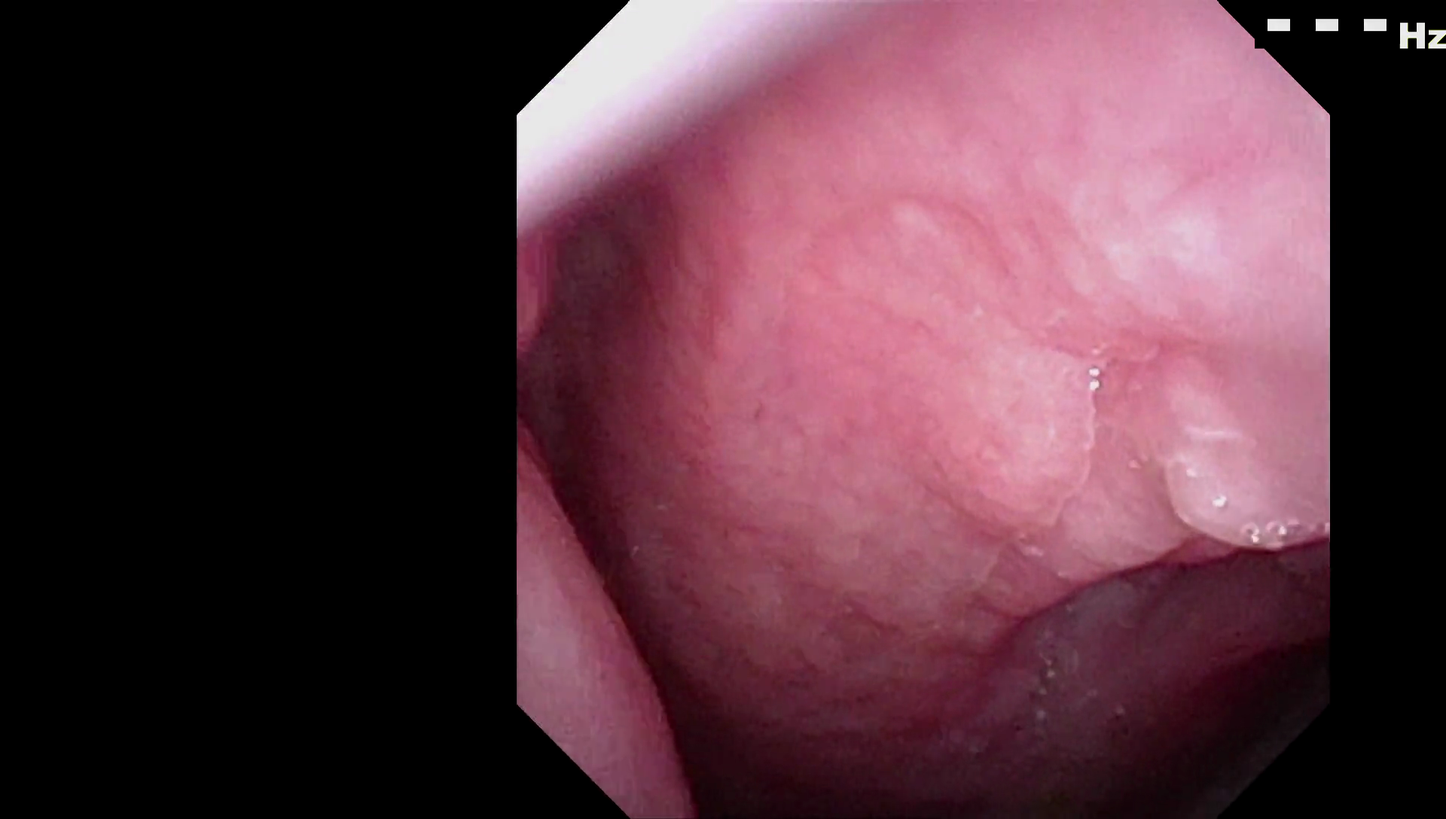close_wall: (846, 126, 1326, 503)
next: (1062, 599, 1311, 809), (599, 583, 819, 819)
